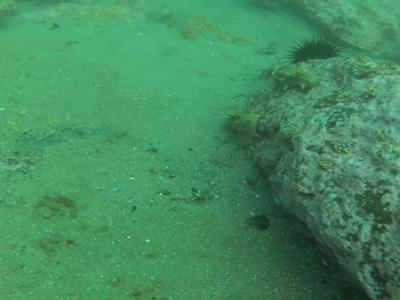holothurian: (223, 107, 281, 142), (267, 63, 325, 96)
urchin: (287, 34, 342, 65)
